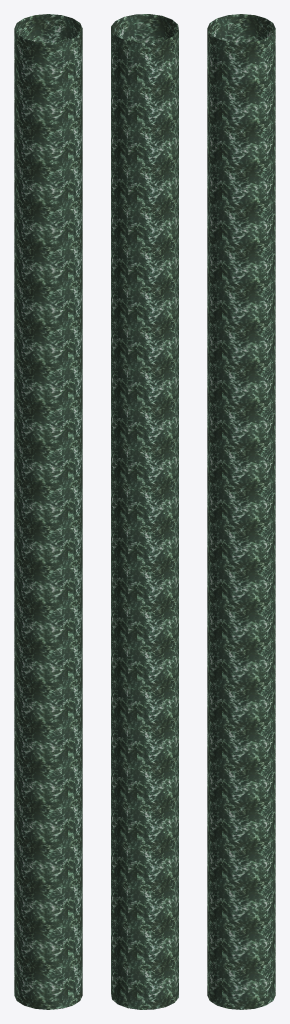
The model's file is runningwater.obj.
3 renders of one model, left to right at view 1: azimuth 90°, elevation 25°; view 2: azimuth 150°, elevation 25°; view 3: azimuth 270°, elevation 25°, orthographic.
Visible parts, largest first — view 1: Cylinder; view 2: Cylinder; view 3: Cylinder.
Boxes of the visible parts, x1=… form: Cylinder: x1=14, y1=14, x2=82, y2=1009; Cylinder: x1=111, y1=14, x2=178, y2=1009; Cylinder: x1=207, y1=14, x2=275, y2=1009.
Bounding box in the file's own units: 3.4 × 53 × 3.4.
1 material, 1 textured.
